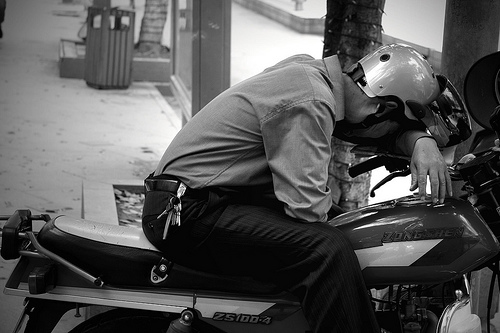helmet: (364, 46, 446, 114)
